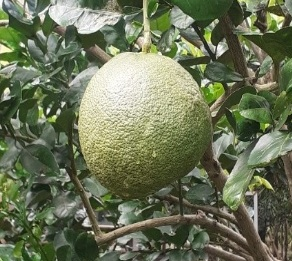Buoi: (77, 49, 213, 199)
